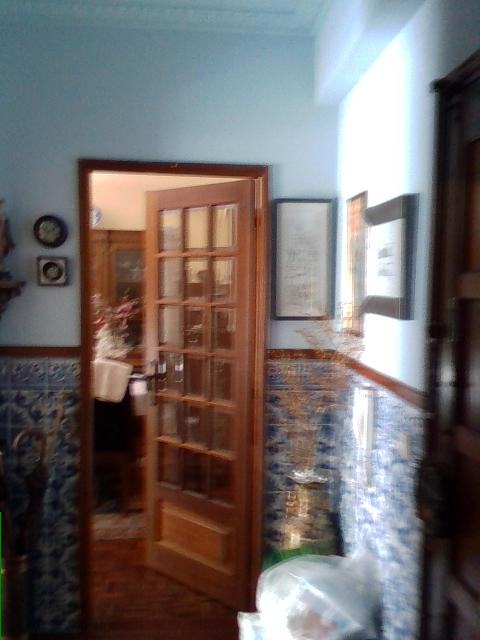semi_door: (77, 155, 274, 634)
